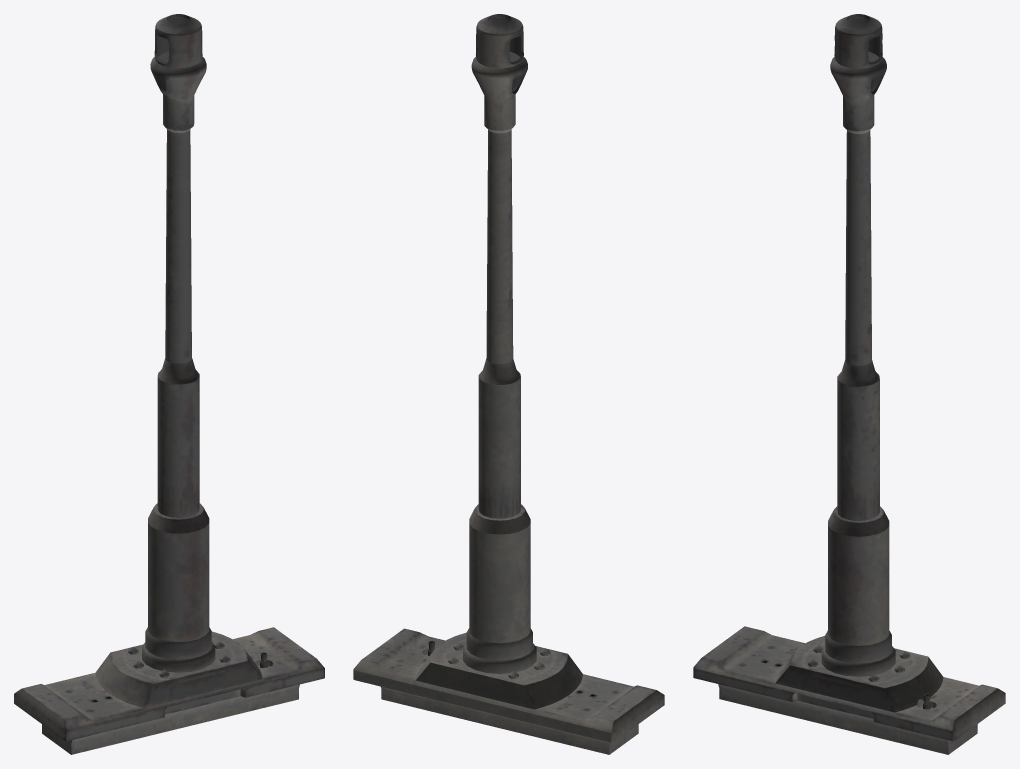
The model's file is Gun_06.glb.
3 views of the same model, side by side, from view 1: azimuth 30°, elevation 25°; view 2: azimuth 150°, elevation 25°; view 3: azimuth 330°, elevation 25° (orthographic).
Parts seen in each view (by area): view 1: set_0_group_0; view 2: set_0_group_0; view 3: set_0_group_0.
Part boxes in pixels (left/top/right/bottom): set_0_group_0: left=14, top=14, right=324, bottom=754; set_0_group_0: left=353, top=14, right=664, bottom=754; set_0_group_0: left=693, top=14, right=1005, bottom=754.
Size of the model in its own units: 1.6 by 4.09 by 0.5606.
1 material, 1 textured.
